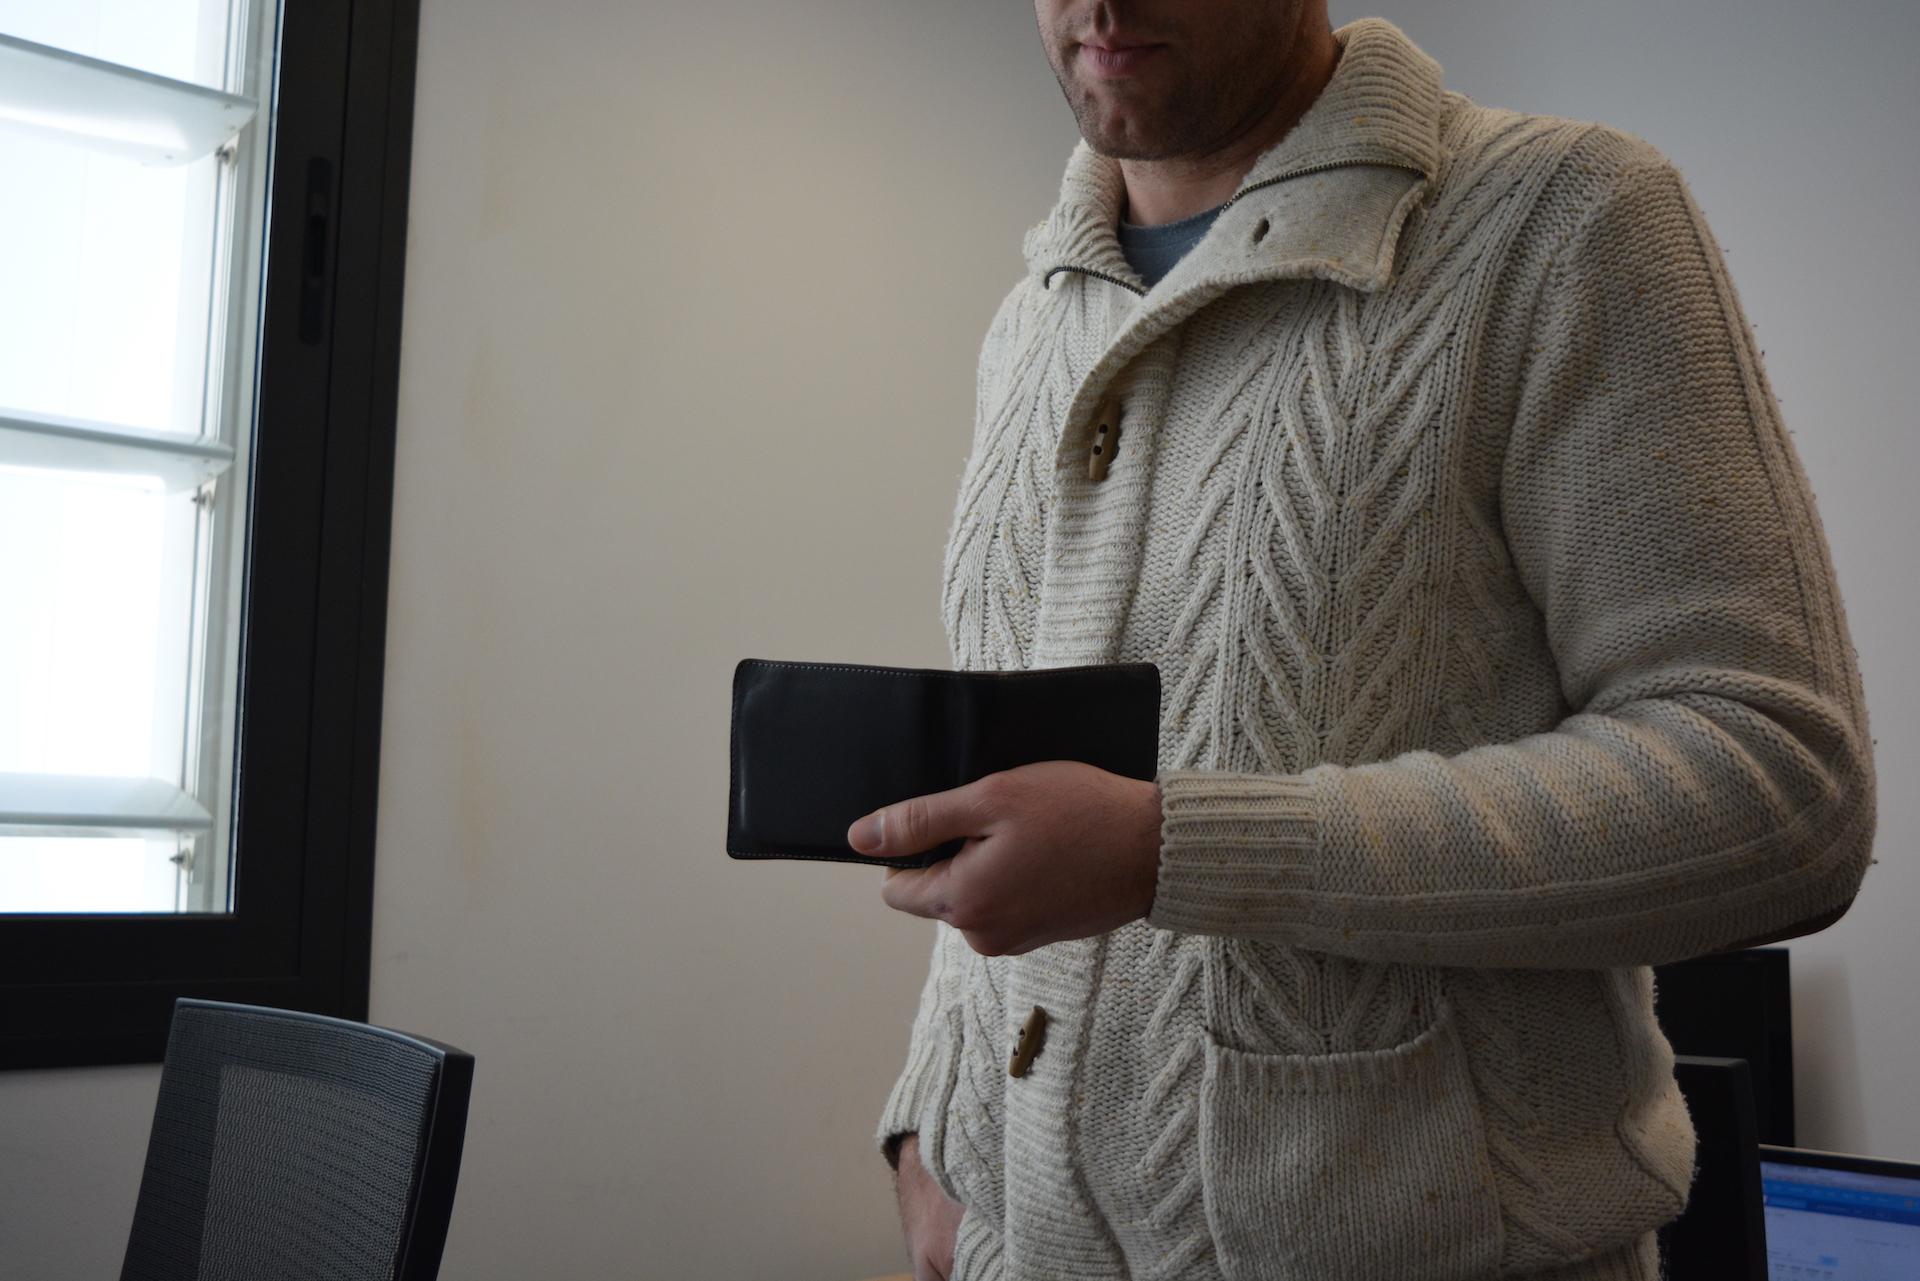monedero: (723, 655, 1165, 872)
